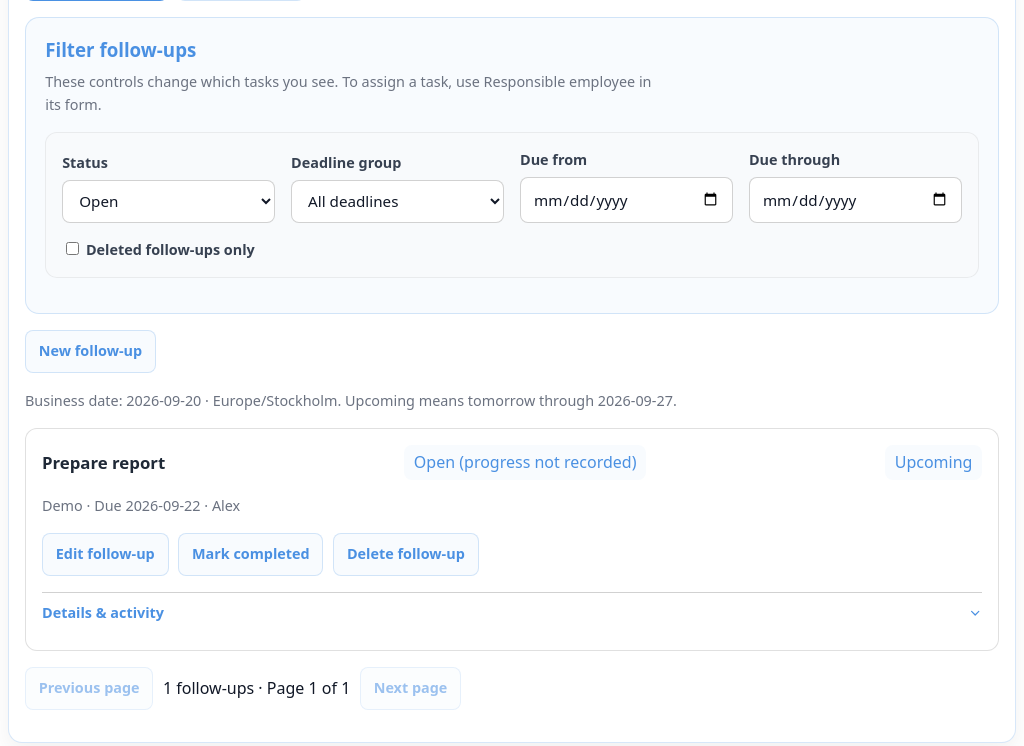
Test: an earlier save cannot erase recovery of newer incomplete edits
(page scrolled)
Click the button "Edit follow-up".
click(105, 554)  # box [42, 533, 168, 576]
(page scrolled)
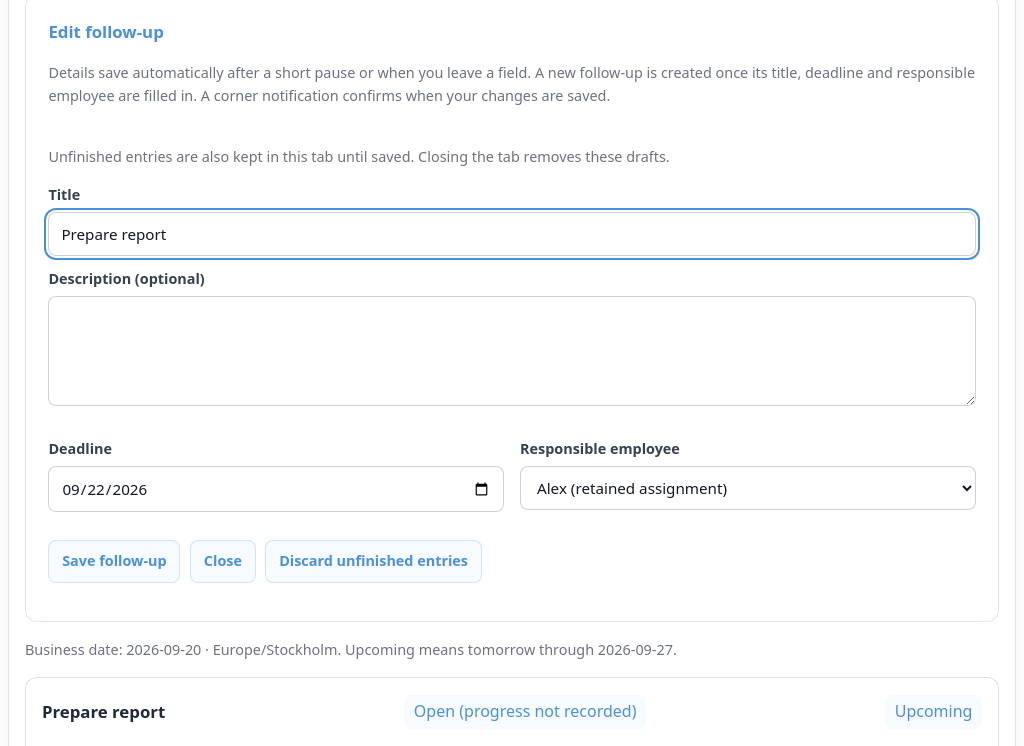
Replace the text in the field labelled "Title" with "Sent title" at (512, 234), box [48, 212, 976, 256]
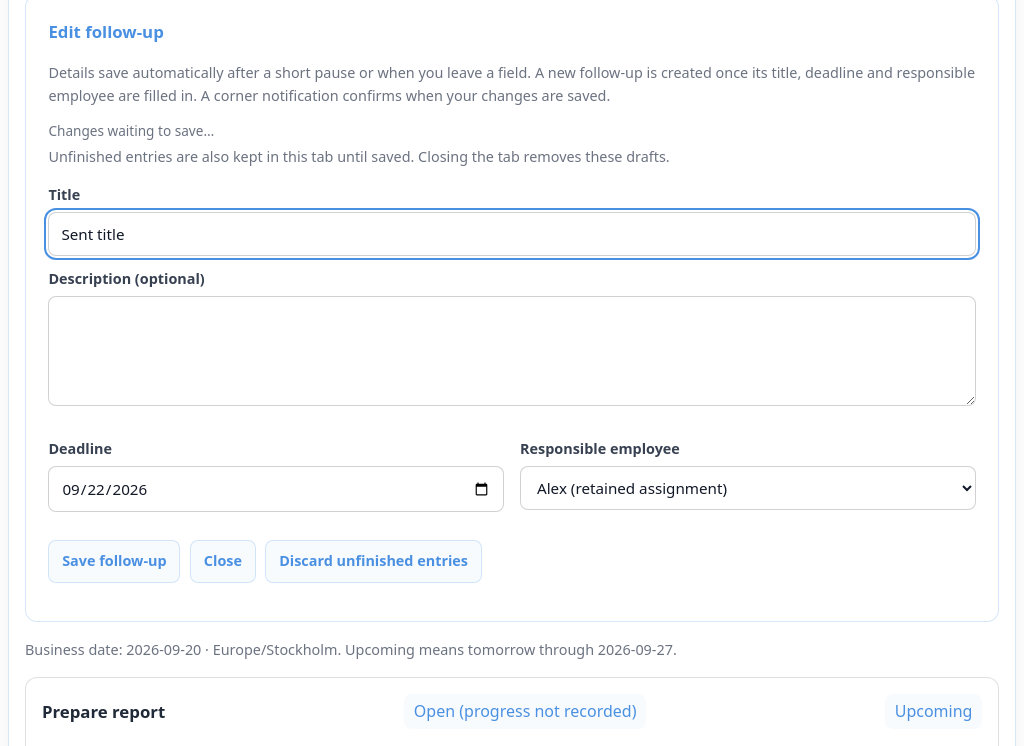
Click the button "Save follow-up".
click(114, 561)  # box [48, 540, 180, 582]
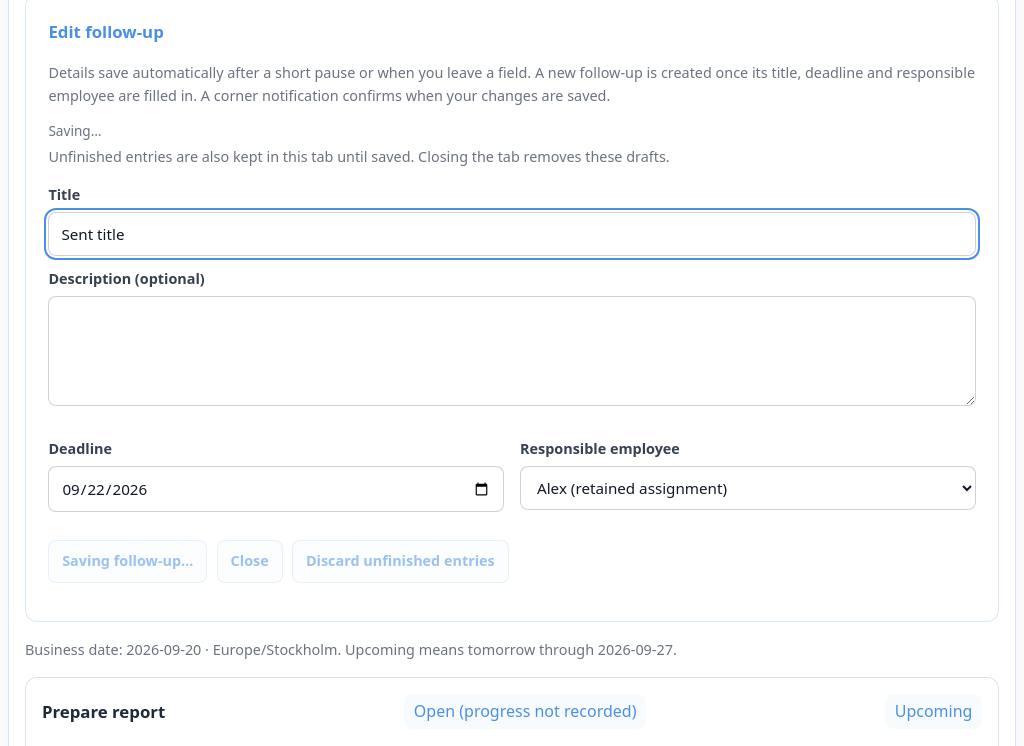
Clear the field labelled "Title" at (512, 234), box [48, 212, 976, 256]
Type "Keep later text" into the text box labelled "Description (optional)".
click(512, 351); type("Keep later text")  # box [48, 296, 976, 406]
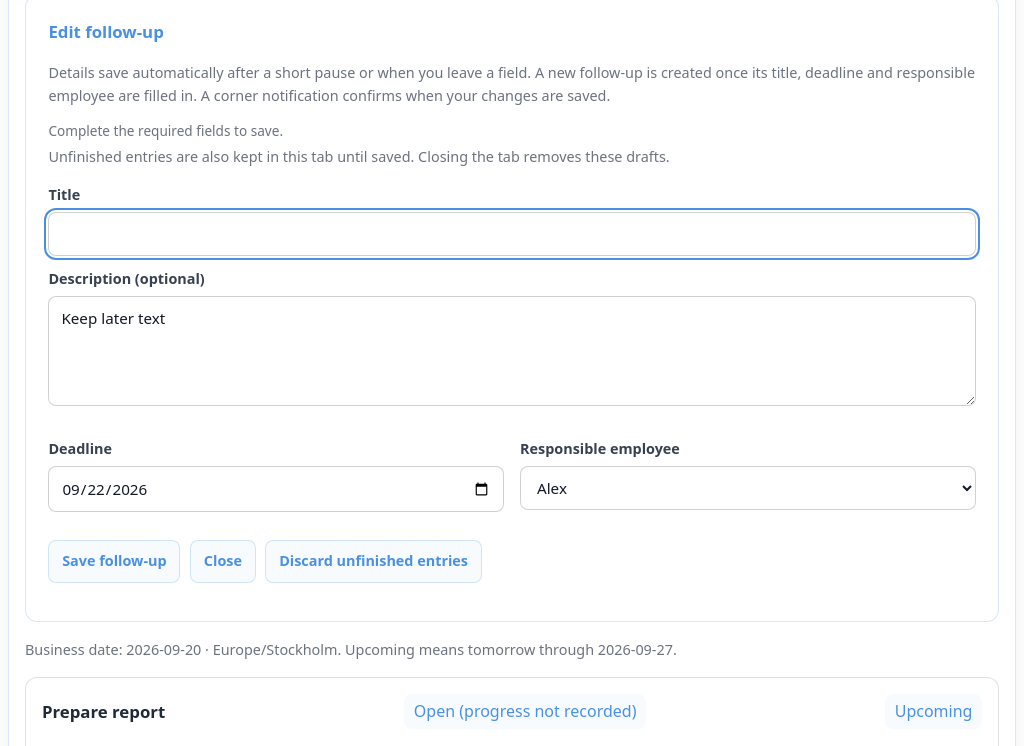
Click the button "Close".
click(223, 561)  # box [190, 540, 256, 582]
(page scrolled)
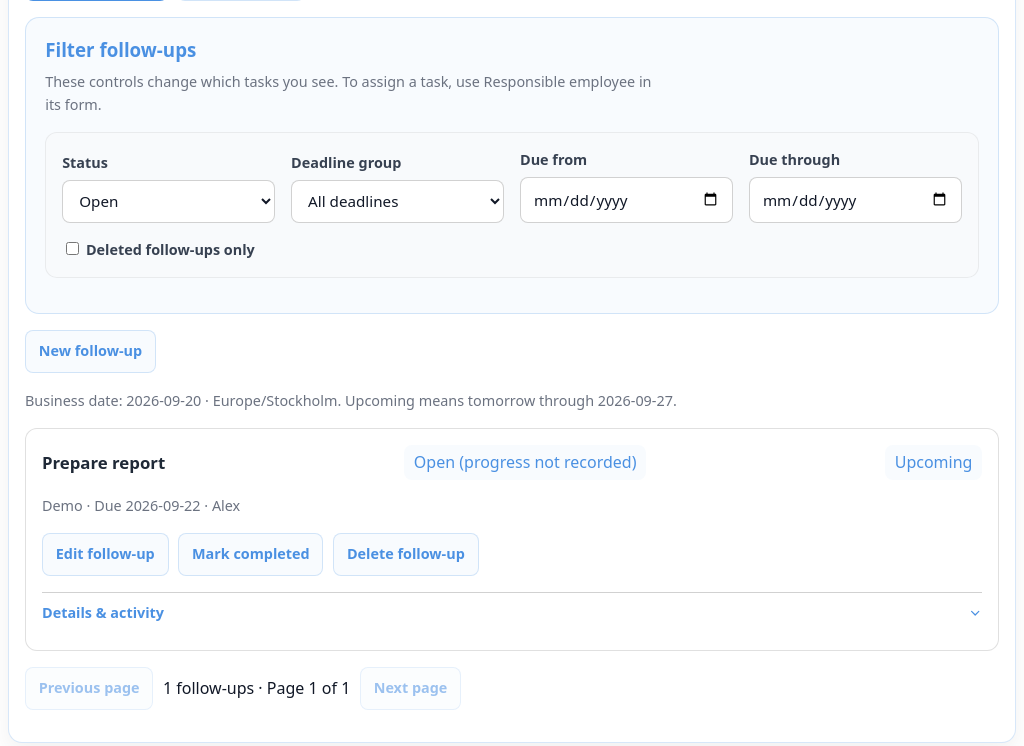
Click the button "Edit follow-up".
click(105, 554)  # box [42, 533, 168, 576]
(page scrolled)
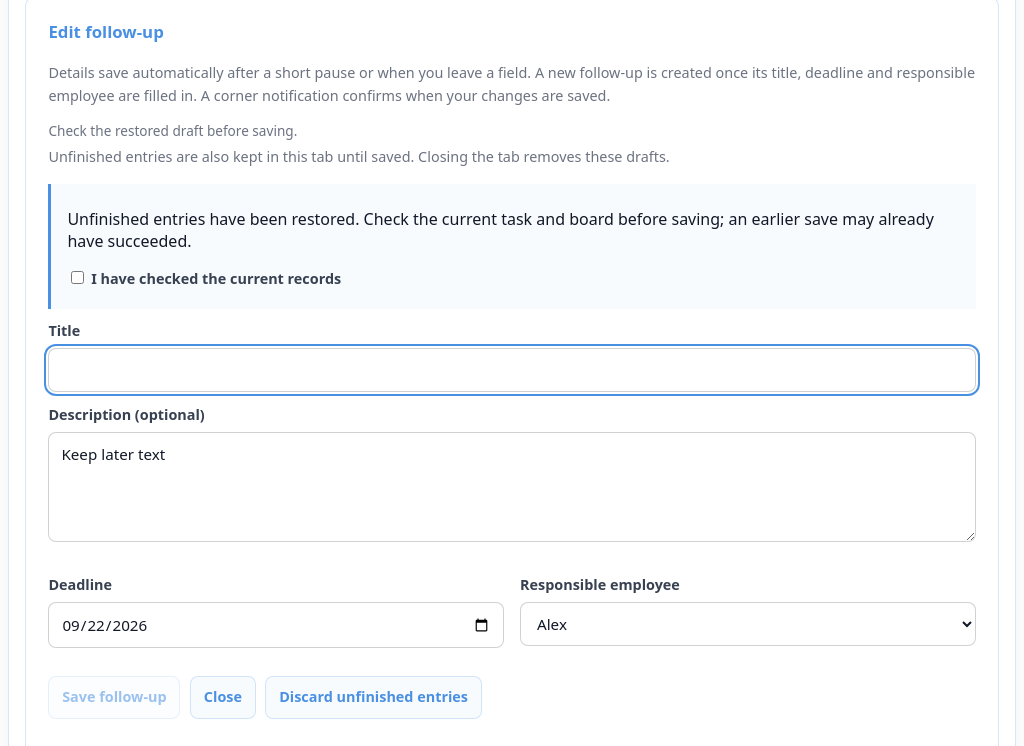
Now the field labelled "Title" is empty, box [48, 348, 976, 392]
Now the text box labelled "Description (optional)" holds "Keep later text", box [48, 432, 976, 542]
